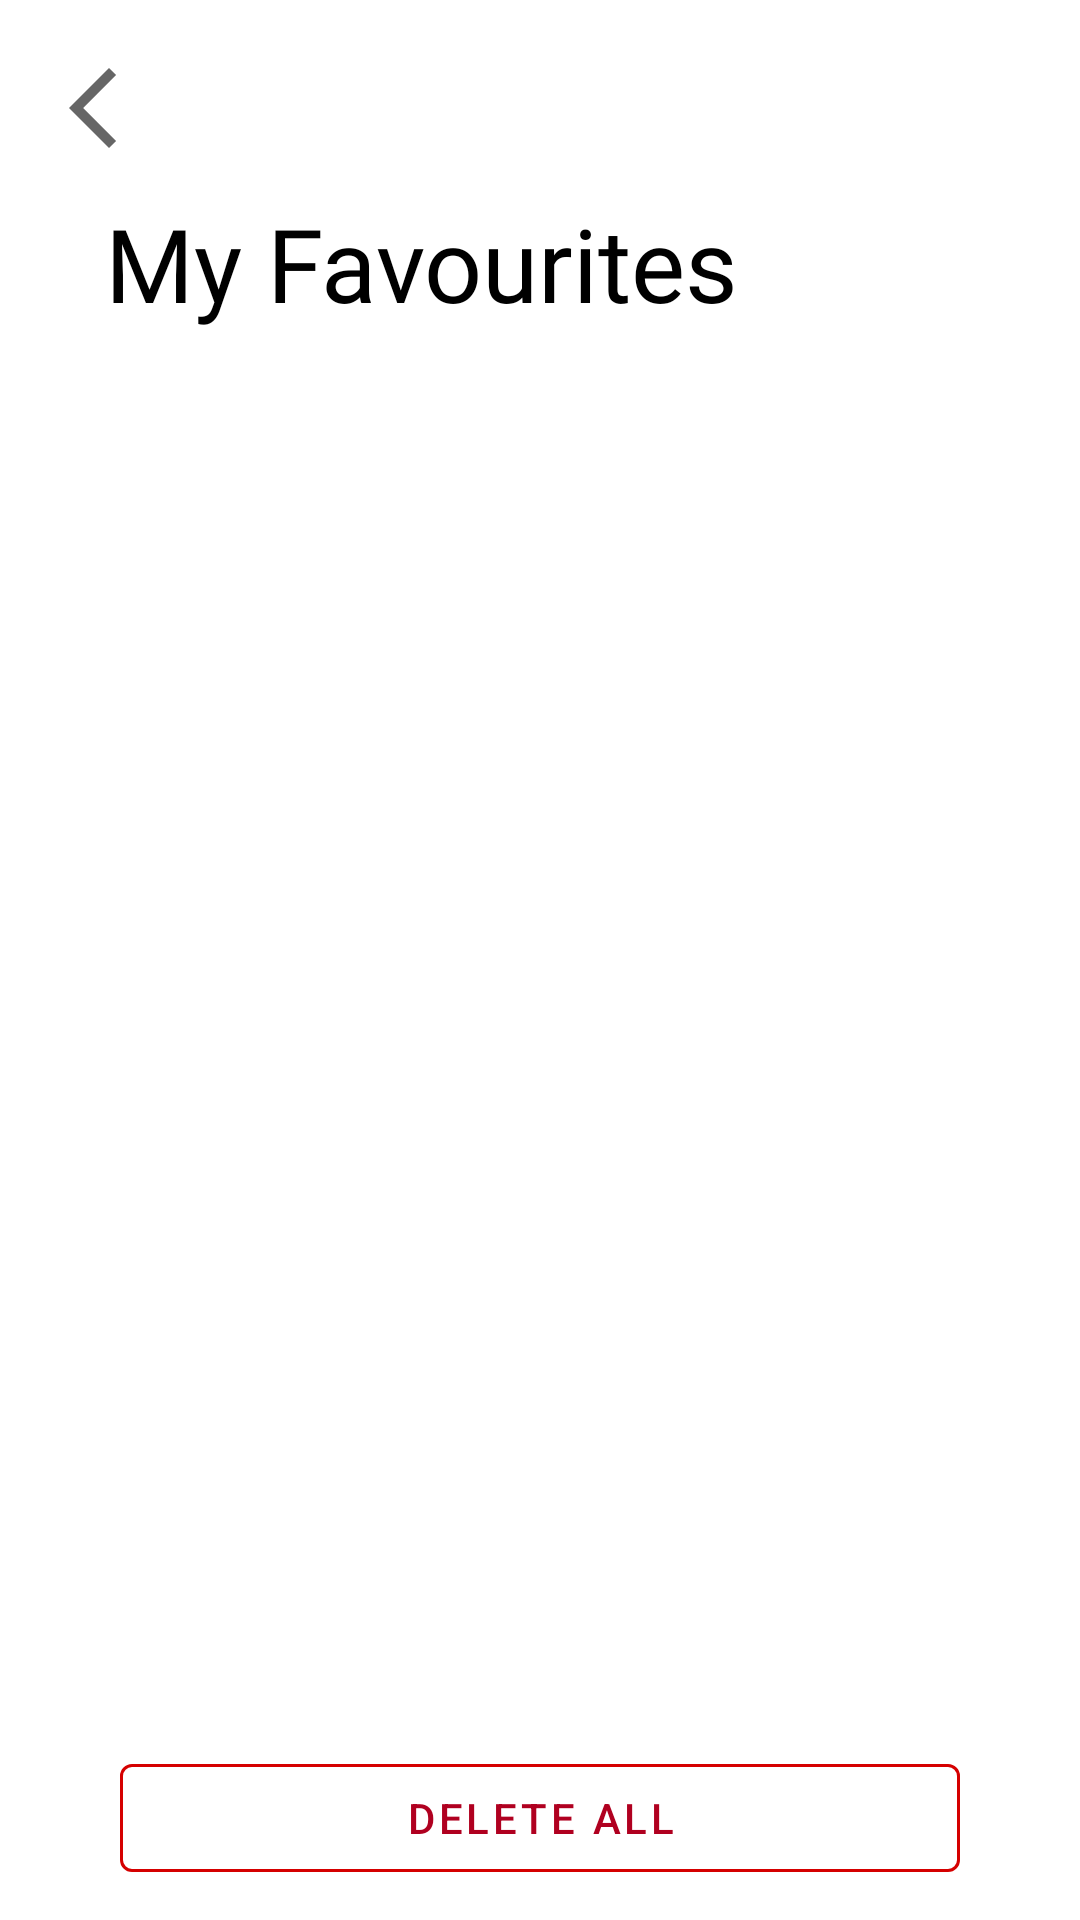

Icons on this 1080w x 1920h Android screen, each with the point to tap as point (x, y):
arrow back: point (92, 108)
